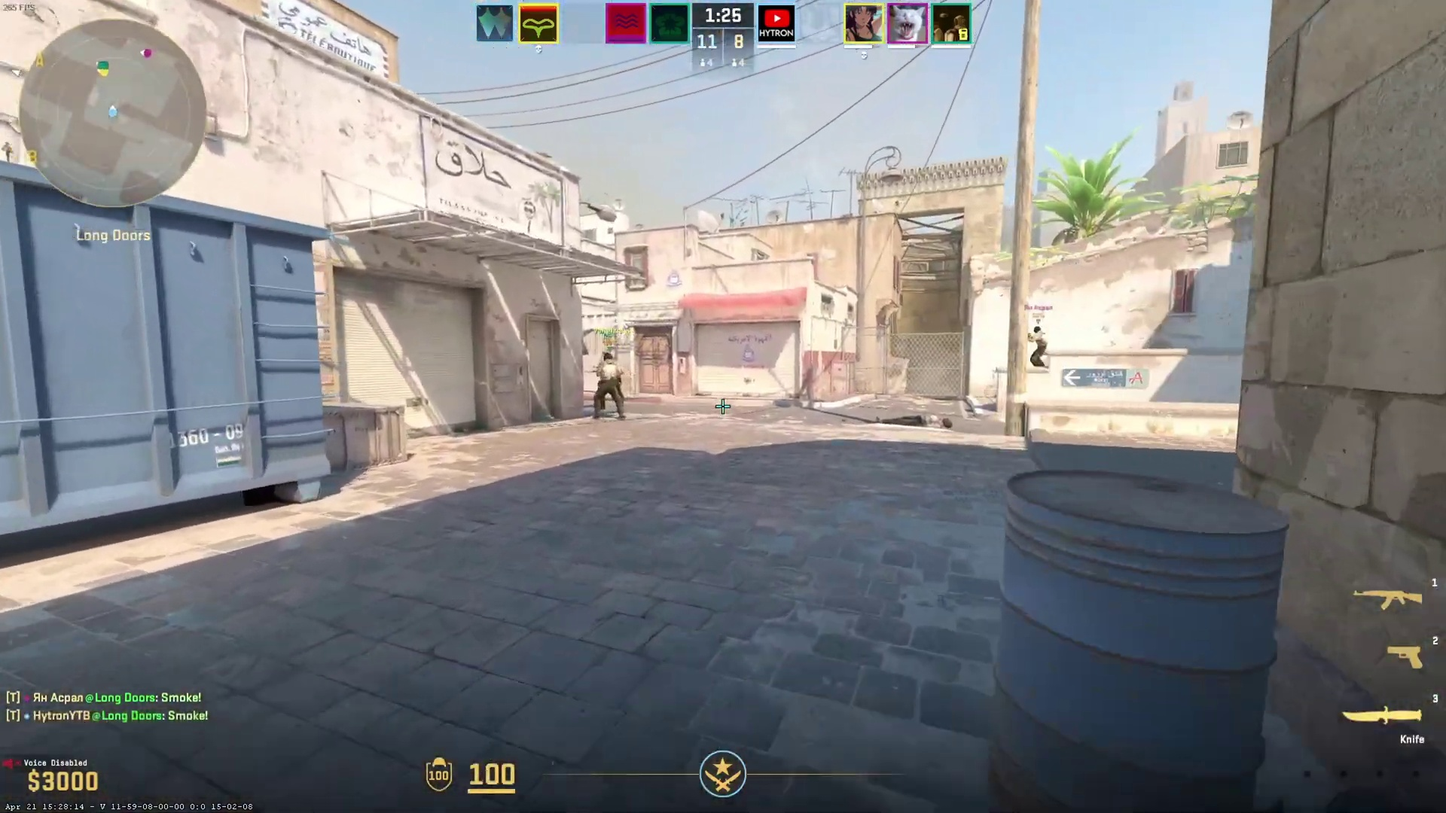Terrorist: (593, 353, 624, 419), (1030, 326, 1047, 366)
